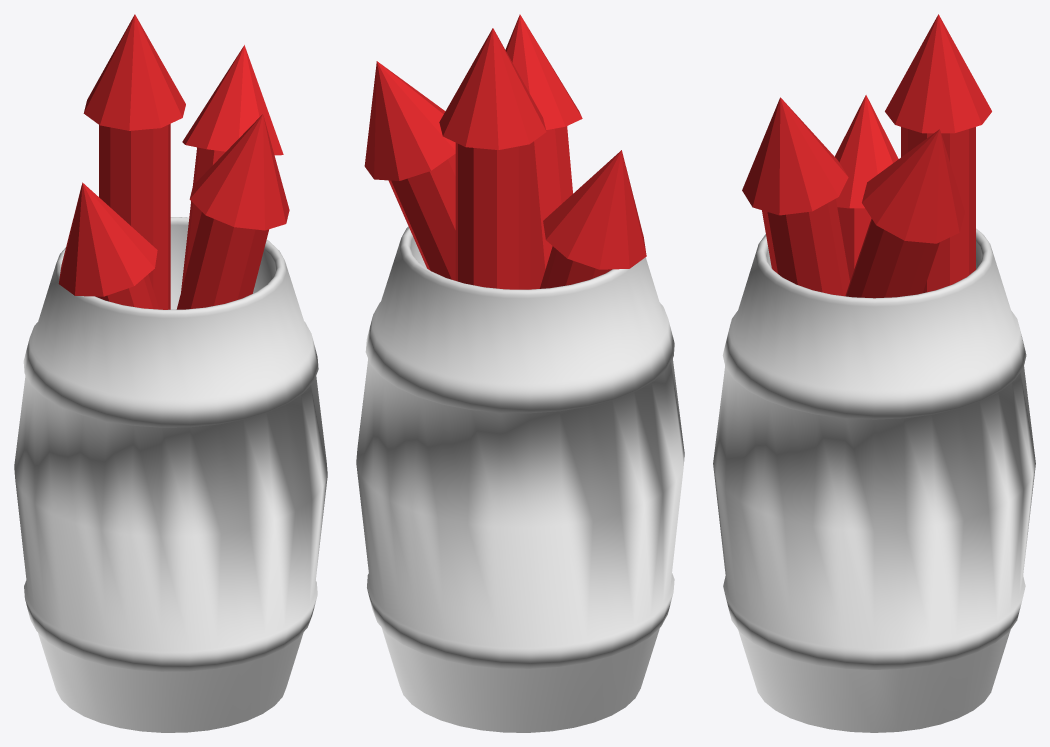
Rendered from FireWorkBarrel.fbx.
3 views of the same model, side by side, from view 1: azimuth 30°, elevation 25°; view 2: azimuth 150°, elevation 25°; view 3: azimuth 270°, elevation 25° (orthographic). The views are drawn at different scales.
Visible parts, largest first — view 1: FireWorkBarrel; view 2: FireWorkBarrel; view 3: FireWorkBarrel.
Boxes of the visible parts, x1,y1,x2,y2 form: FireWorkBarrel: [14, 14, 327, 732]; FireWorkBarrel: [356, 14, 684, 732]; FireWorkBarrel: [713, 14, 1035, 732].
Size of the model in its own units: 122 by 278 by 122.
